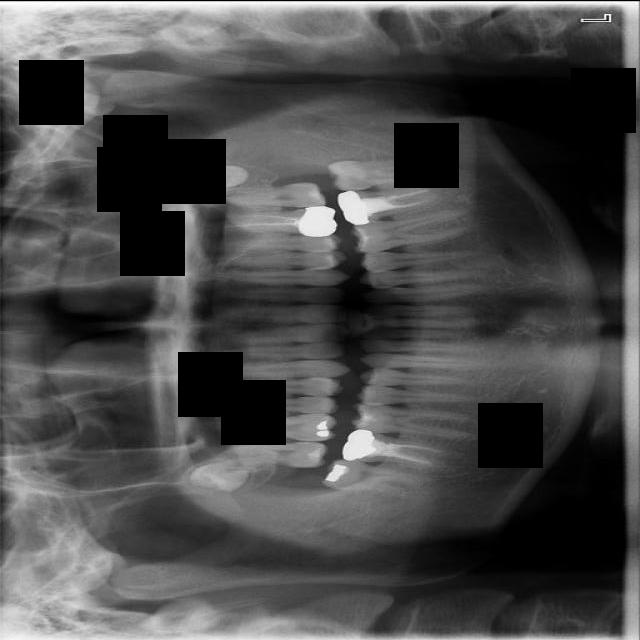3M ESPE Implant: (191, 460, 258, 493)
52: (320, 451, 367, 495), (338, 422, 381, 468), (334, 186, 372, 231), (347, 219, 387, 253), (296, 204, 338, 236), (295, 412, 338, 442), (351, 401, 391, 433), (287, 440, 330, 468), (285, 181, 327, 206), (352, 179, 369, 186)
73: (359, 429, 454, 469), (355, 182, 446, 223), (209, 204, 307, 235), (617, 6, 623, 12)
BioHorizons Implant: (201, 180, 328, 211)
BioLife Implant: (193, 157, 251, 194)
Biomet 3i Implant: (326, 157, 434, 192)
Blue Sky Bio Implant: (336, 179, 447, 227)
Caries: (202, 440, 331, 468)
Implant: (340, 426, 454, 469)
Keystone Dental Implant: (322, 456, 424, 497)
